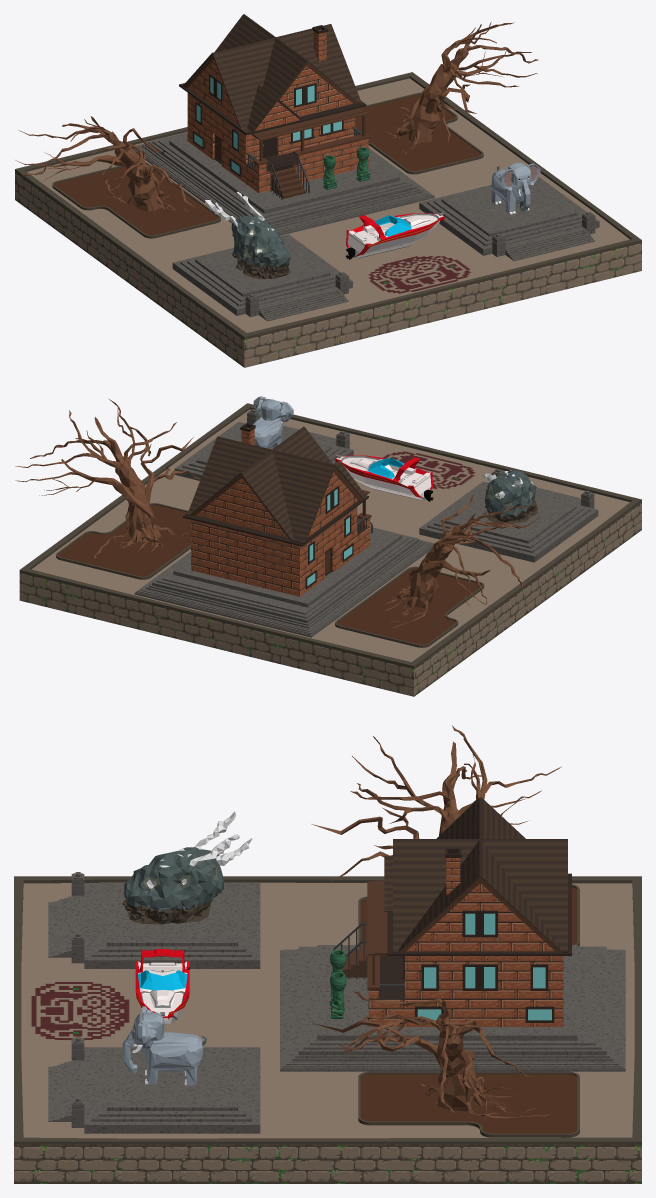
3 renders of one model, top to bottom at view 1: azimuth 30°, elevation 25°; view 2: azimuth 150°, elevation 25°; view 3: azimuth 270°, elevation 25°, orthographic. The views are drawn at different scales.
Parts seen in each view (by area): view 1: Cube.011, Cube.469, OBJRANDOM_METEORITE, VEHICLES_BOAT, ANIMAL_ELEFANTE; view 2: Cube.011, Cube.469, VEHICLES_BOAT, OBJRANDOM_METEORITE, ANIMAL_ELEFANTE; view 3: Cube.011, Cube.469, OBJRANDOM_METEORITE, ANIMAL_ELEFANTE, VEHICLES_BOAT.
Boxes of the visible parts, left/top/right/bottom form: Cube.011: left=15, top=22, right=641, bottom=367; Cube.469: left=179, top=14, right=371, bottom=199; OBJRANDOM_METEORITE: left=205, top=191, right=290, bottom=279; VEHICLES_BOAT: left=345, top=212, right=444, bottom=259; ANIMAL_ELEFANTE: left=491, top=162, right=540, bottom=214; Cube.011: left=15, top=399, right=641, bottom=696; Cube.469: left=183, top=423, right=372, bottom=596; VEHICLES_BOAT: left=335, top=454, right=433, bottom=501; OBJRANDOM_METEORITE: left=482, top=470, right=538, bottom=525; ANIMAL_ELEFANTE: left=253, top=396, right=293, bottom=448; Cube.011: left=14, top=725, right=641, bottom=1183; Cube.469: left=333, top=797, right=571, bottom=1026; OBJRANDOM_METEORITE: left=122, top=811, right=252, bottom=924; ANIMAL_ELEFANTE: left=122, top=1006, right=206, bottom=1085; VEHICLES_BOAT: left=135, top=949, right=189, bottom=1023.
Bounding box in the file's own units: 5099 × 1610 × 4000.
Materials: 30 (7 with a texture image).
